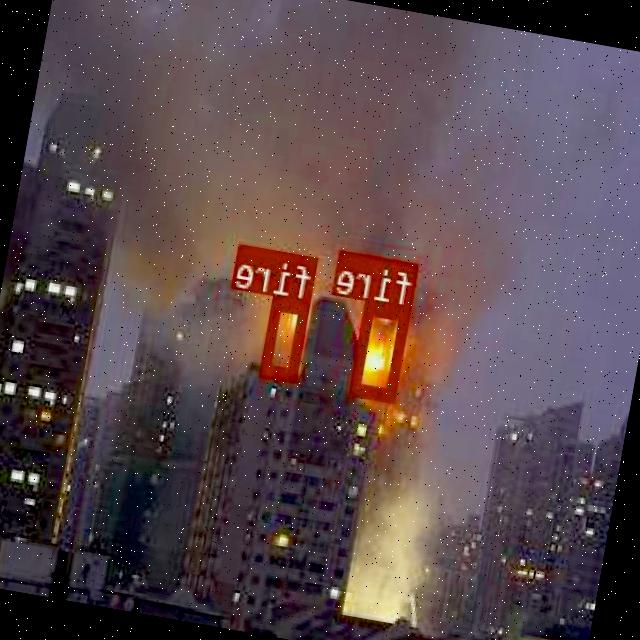fire: (352, 301, 412, 400), (262, 296, 312, 378)
